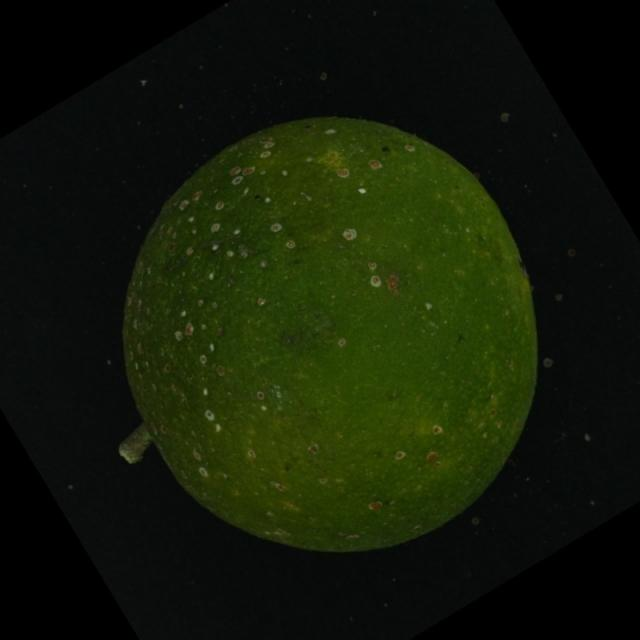grenning: (106, 102, 563, 563)
